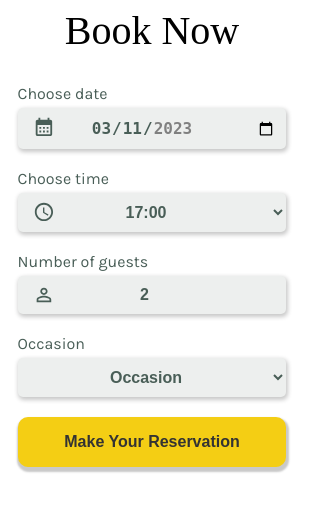
Scenario: Validate that the correct attributes are applied › Guests validation function: put invalid input '0'
Replace the text in the number field labelled "Number of guests" with "0". click: (152, 295)
box: [18,276,286,314]
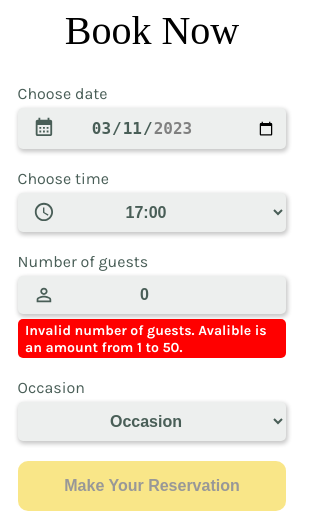
Now the text "Invalid number of guests" is shown, box [25,322,267,356]
